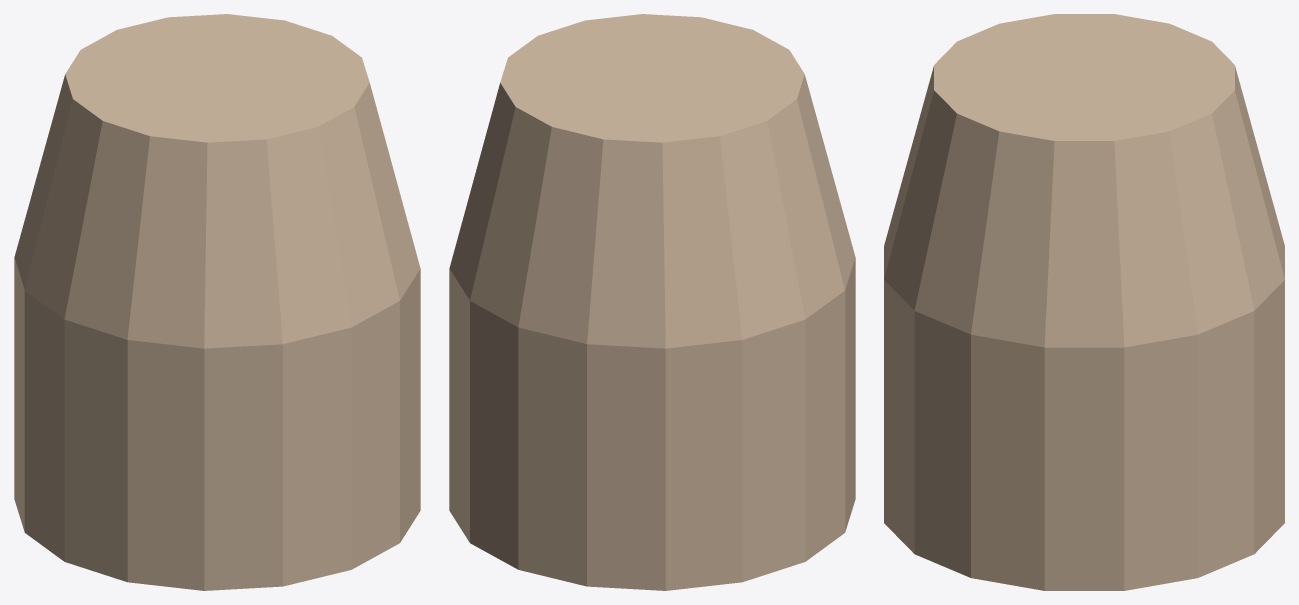
Rendered from hamal_avionics_s1_1_collider.obj.
3 views of the same model, side by side, from view 1: azimuth 30°, elevation 25°; view 2: azimuth 150°, elevation 25°; view 3: azimuth 270°, elevation 25° (orthographic).
Parts seen in each view (by area): view 1: collider; view 2: collider; view 3: collider.
Boxes of the visible parts, left/top/right/bottom form: collider: left=14, top=14, right=420, bottom=590; collider: left=449, top=14, right=855, bottom=590; collider: left=884, top=14, right=1284, bottom=590.
Size of the model in its own units: 1.25 by 1.48 by 1.25.
